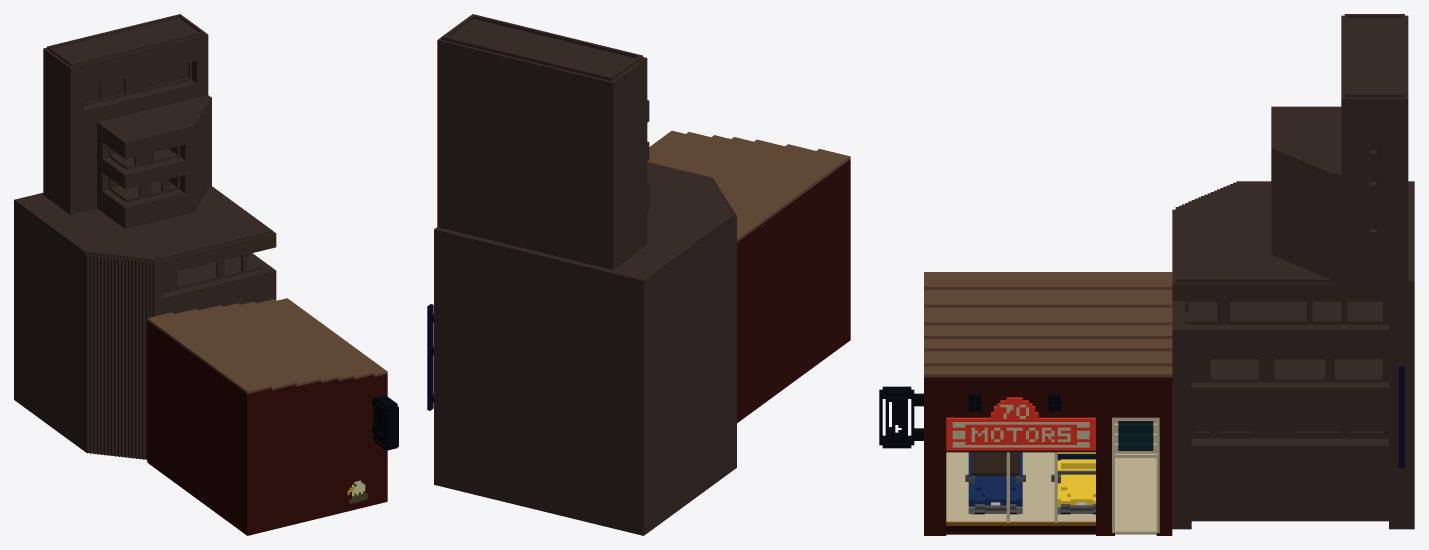
File: Motors-0.obj
3 views of the same model, side by side, from view 1: azimuth 30°, elevation 25°; view 2: azimuth 150°, elevation 25°; view 3: azimuth 270°, elevation 25° (orthographic). The views are drawn at different scales.
Bounding box in the file's own units: 8.5 × 15 × 16.8.
Materials: 1 (1 with a texture image).
